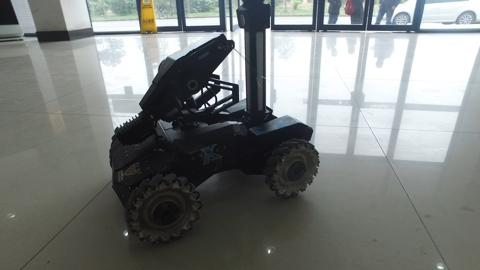car: (381, 1, 480, 27)
chariot: (107, 1, 321, 245)
